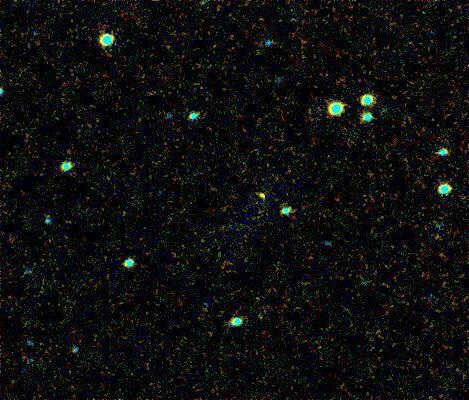star: (244, 181, 274, 211)
